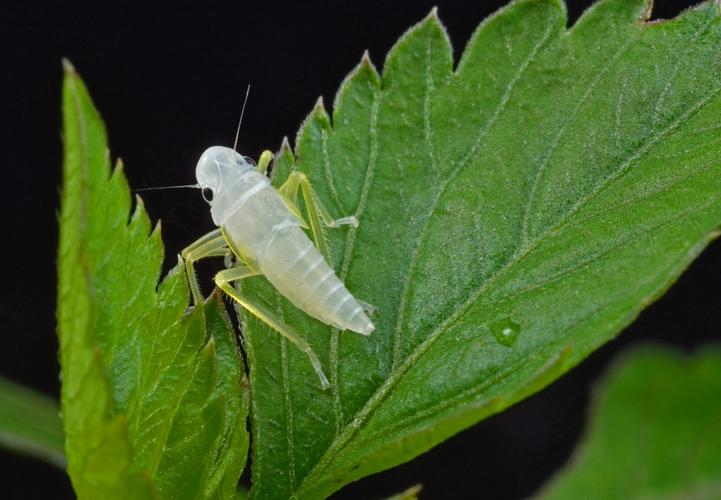Cicadellidae: (179, 146, 375, 384)
